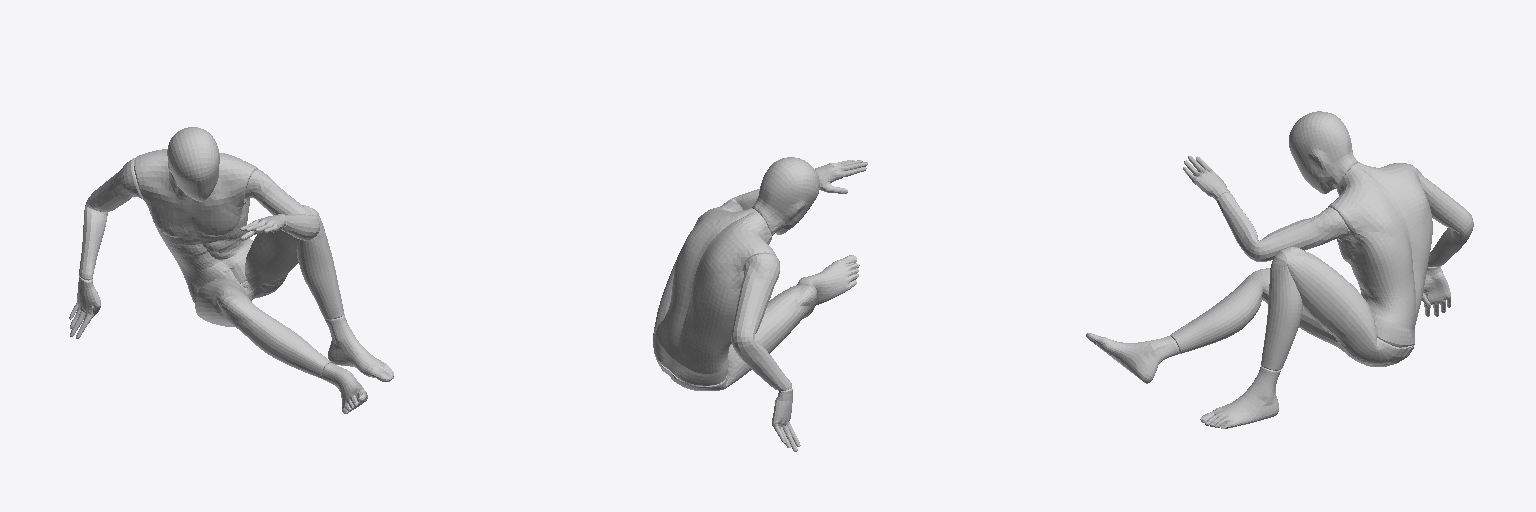
Rendered from standup47.obj.
The picture shows the model from 3 angles: view 1: azimuth 30°, elevation 25°; view 2: azimuth 150°, elevation 25°; view 3: azimuth 270°, elevation 25°; orthographic projection.
Parts seen in each view (by area): view 1: Ch36; view 2: Ch36; view 3: Ch36.
Part boxes in pixels (x1,y1,x2,y2): Ch36: (69, 127, 393, 413); Ch36: (653, 157, 867, 451); Ch36: (1086, 111, 1473, 428).
Bounding box in the file's own units: 0.779 × 0.8382 × 1.21.